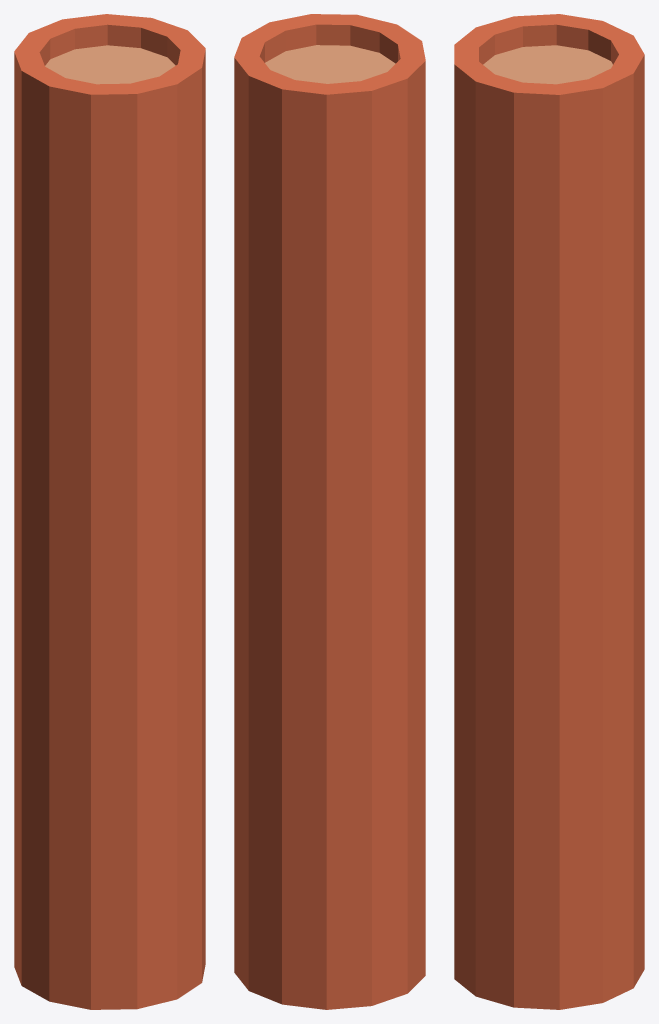
The model's file is Log.fbx.
The picture shows the model from 3 angles, left to right: view 1: azimuth 30°, elevation 25°; view 2: azimuth 150°, elevation 25°; view 3: azimuth 270°, elevation 25°; orthographic projection.
Parts seen in each view (by area): view 1: Log.001; view 2: Log.001; view 3: Log.001.
Boxes of the visible parts, box(x1,y1,x2,y2) form: Log.001: box(14, 14, 205, 1009); Log.001: box(234, 14, 425, 1009); Log.001: box(454, 14, 644, 1009).
Size of the model in its own units: 50.28 by 50.64 by 267.
